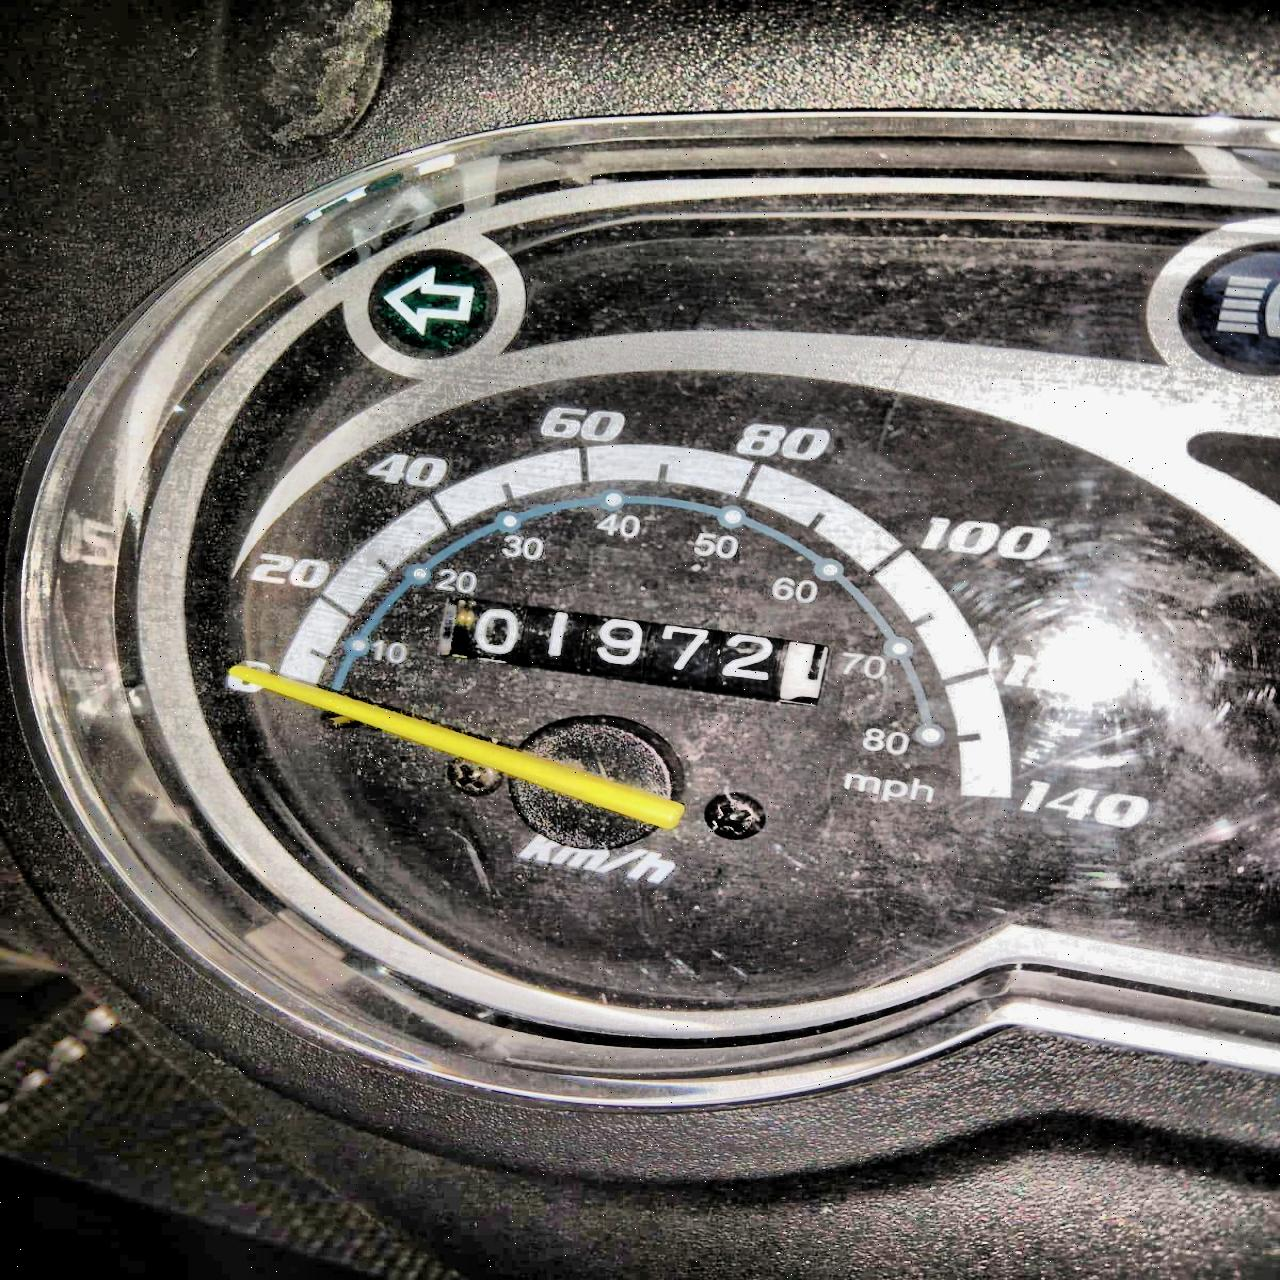0: (472, 605, 518, 655)
1: (537, 607, 570, 659), (798, 638, 828, 681)
2: (719, 629, 774, 685)
7: (658, 620, 708, 673)
9: (595, 614, 644, 666)
odometer: (440, 597, 836, 714)
